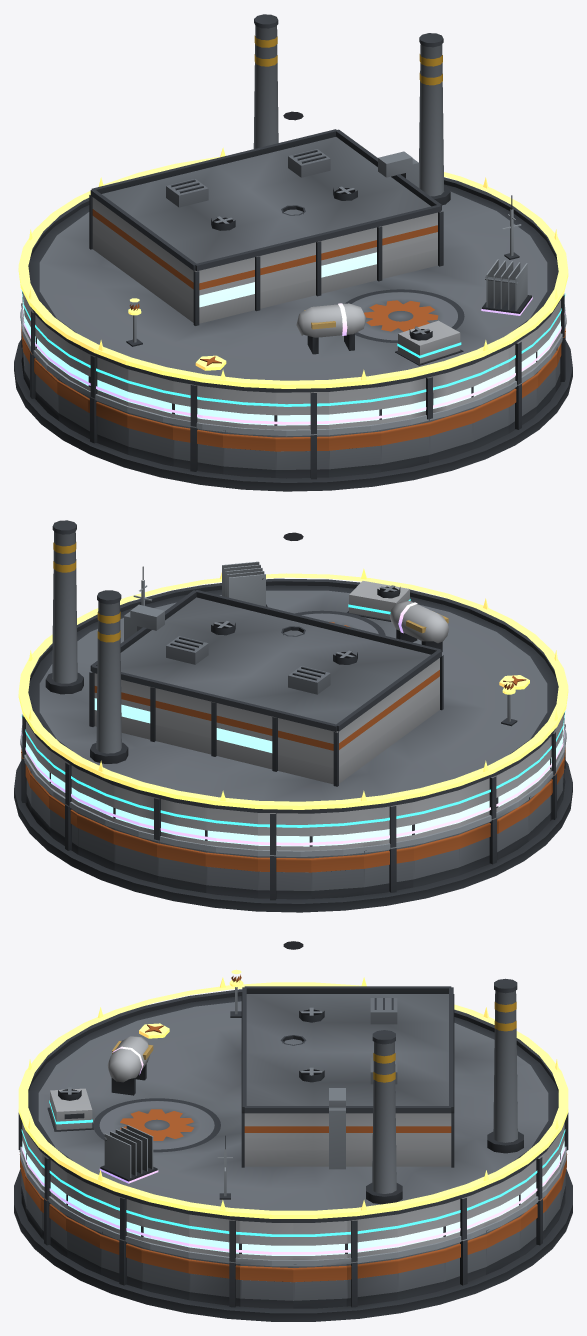
File: electronics_fab_m_far.glb
The picture shows the model from 3 angles, top to bottom: view 1: azimuth 30°, elevation 25°; view 2: azimuth 150°, elevation 25°; view 3: azimuth 270°, elevation 25°; orthographic projection.
Parts seen in each view (by area): view 1: Roof, Base, L5, L4, L2, L3; view 2: Roof, Base, L5, L4, L2, L3; view 3: Roof, Base, L5, L4, L2, L3.
Boxes of the visible parts, box(x1,y1,x2,y2) form: Roof: box(22, 14, 564, 434); Base: box(14, 303, 572, 491); L5: box(18, 147, 568, 388); L4: box(21, 259, 565, 424); L2: box(20, 195, 566, 436); L3: box(21, 290, 565, 406); Roof: box(22, 520, 564, 855); Base: box(14, 724, 572, 912); L5: box(18, 568, 568, 809); L4: box(21, 561, 565, 845); L2: box(20, 566, 566, 856); L3: box(21, 581, 565, 827); Roof: box(18, 941, 568, 1262); Base: box(14, 1150, 572, 1321); L5: box(18, 969, 568, 1218); L4: box(21, 1036, 565, 1254); L2: box(20, 1135, 566, 1266); L3: box(21, 1087, 565, 1236).
Bounding box in the file's own units: 14.75 × 7.52 × 14.75.
